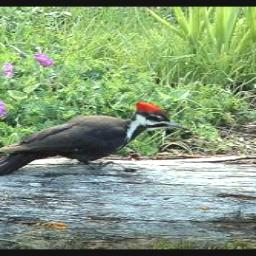Woodpecker: (0, 101, 187, 175)
